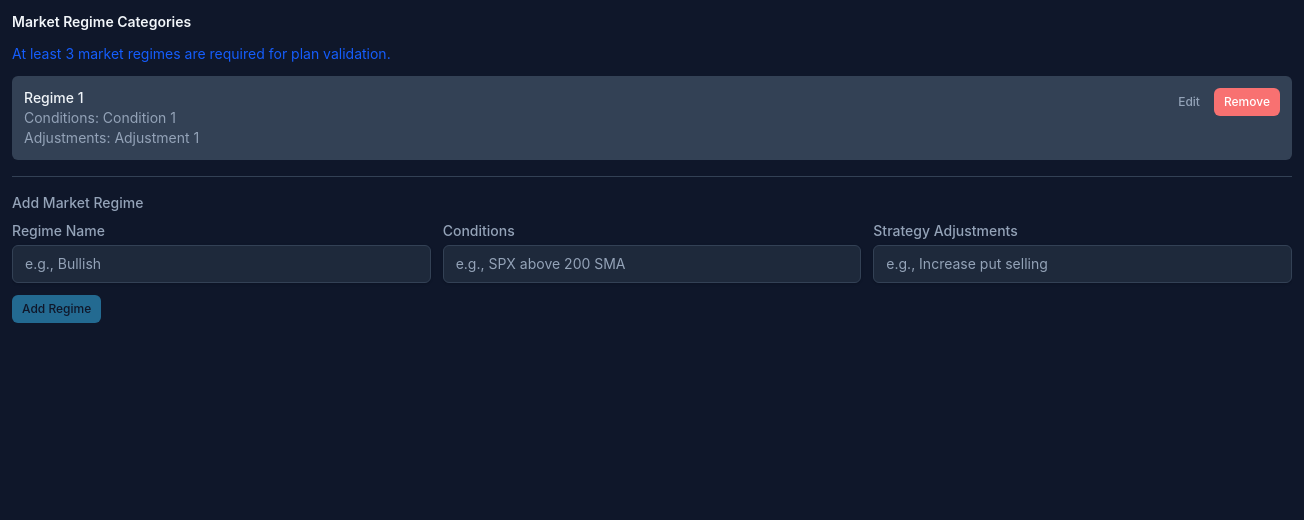
Test: MarketRegimeSection › cancels edit without saving
Click the button with aria-label "edit regime: regime 1" at (1189, 102), box [1168,88,1210,116]
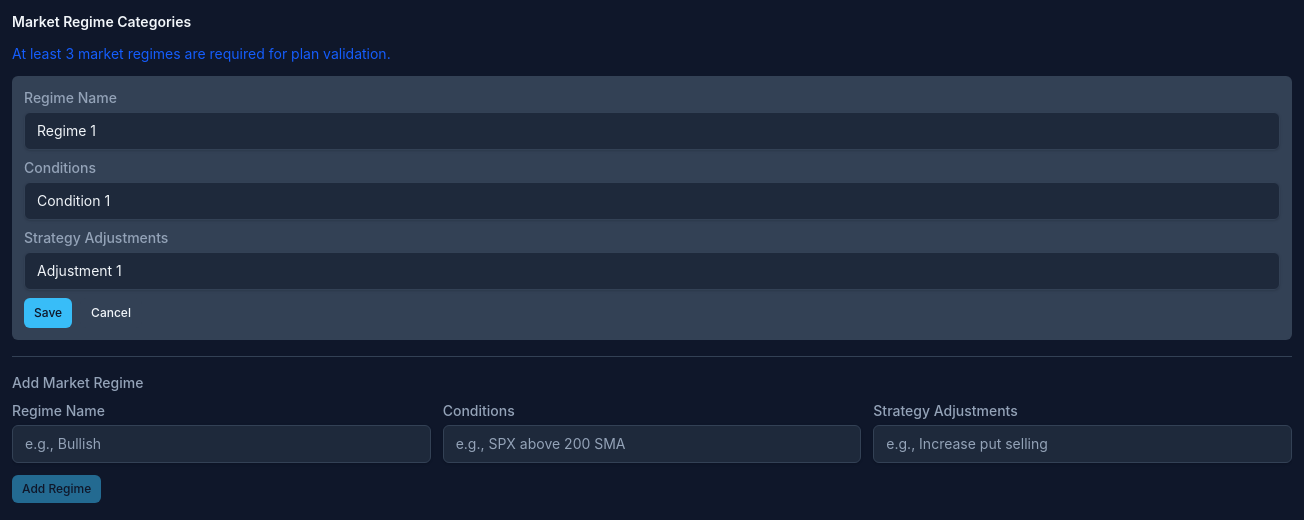
Click the button "Cancel" at (111, 313), box [80,298,142,328]
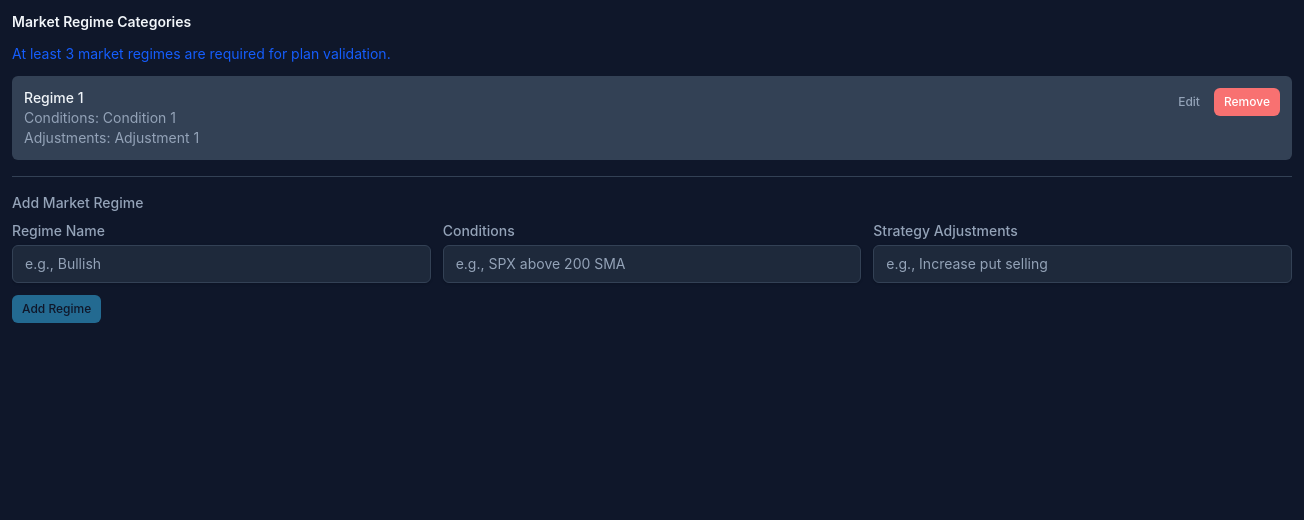
expect the text "Regime 1" is shown: met, box [24,89,84,106]
